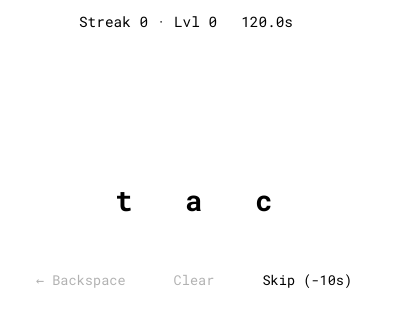
Test: InfiniteSurvival - Edge Cases › skip button shows cooldown after skipping
Click the button "Skip (-10s)": coordinates (307, 280) [246,263,368,297]
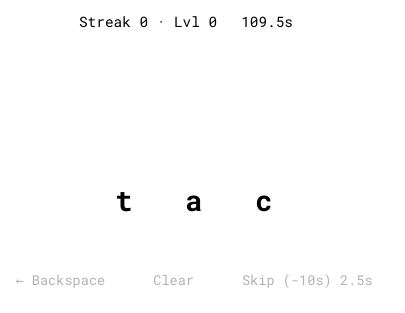
Check: the button "Skip (-10s) 2.5s" is disabled, box [226,263,388,297]
